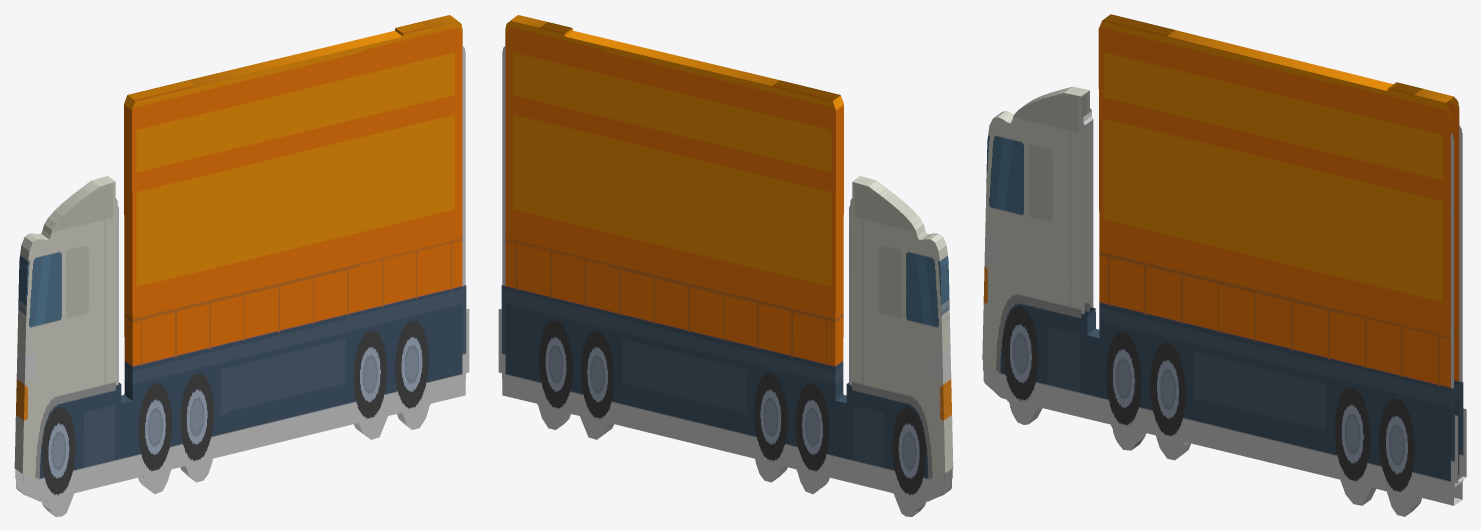
The model's file is orangeTruck.FBX.
3 views of the same model, side by side, from view 1: azimuth 30°, elevation 25°; view 2: azimuth 150°, elevation 25°; view 3: azimuth 330°, elevation 25° (orthographic). The views are drawn at different scales.
Visible parts, largest first — view 1: OrangeTruck; view 2: OrangeTruck; view 3: OrangeTruck.
Part boxes in pixels (<box>): OrangeTruck: <box>14,15,469,516</box>; OrangeTruck: <box>498,15,953,516</box>; OrangeTruck: <box>982,14,1466,516</box>.
Size of the model in its own units: 35.99 by 30.77 by 1.13.
Materials: 1 (1 with a texture image).
